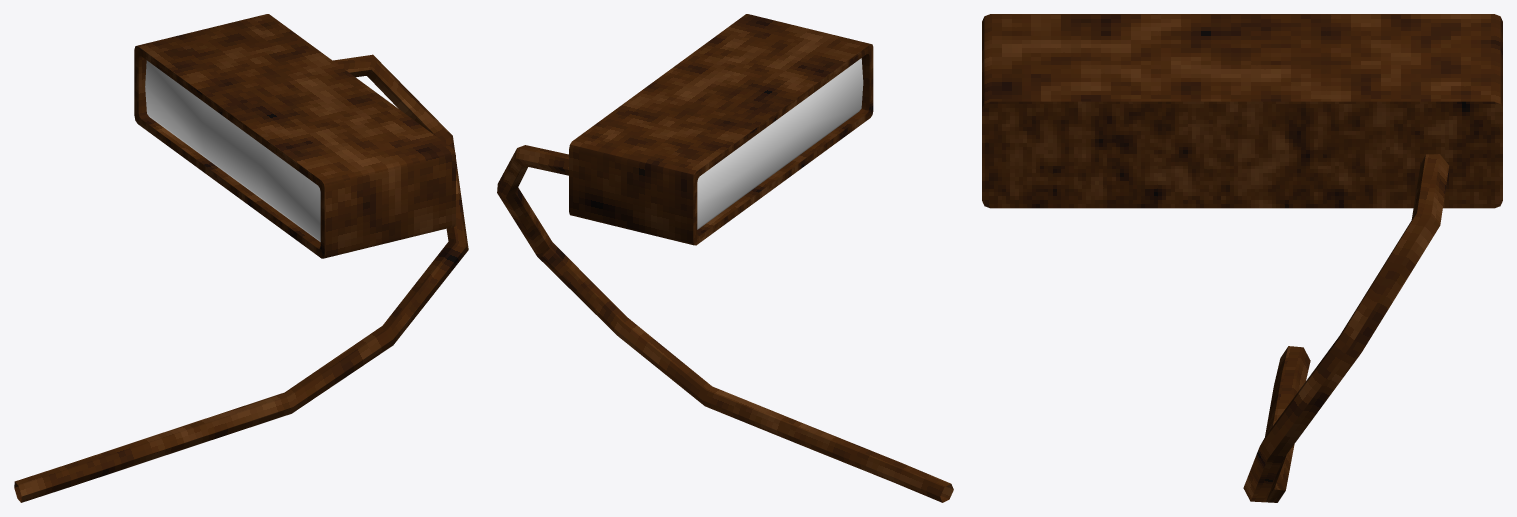
Rendered from MoneyCounter.glb.
The picture shows the model from 3 angles, left to right: view 1: azimuth 30°, elevation 25°; view 2: azimuth 150°, elevation 25°; view 3: azimuth 270°, elevation 25°; orthographic projection. The views are drawn at different scales.
Parts seen in each view (by area): view 1: MoneyCounter; view 2: MoneyCounter; view 3: MoneyCounter.
Part boxes in pixels (x1,y1,x2,y2): MoneyCounter: (14,14,468,502); MoneyCounter: (497,14,953,502); MoneyCounter: (982,14,1502,502).
Size of the model in its own units: 2.84 by 2.1 by 2.05.
2 materials, 1 textured.
